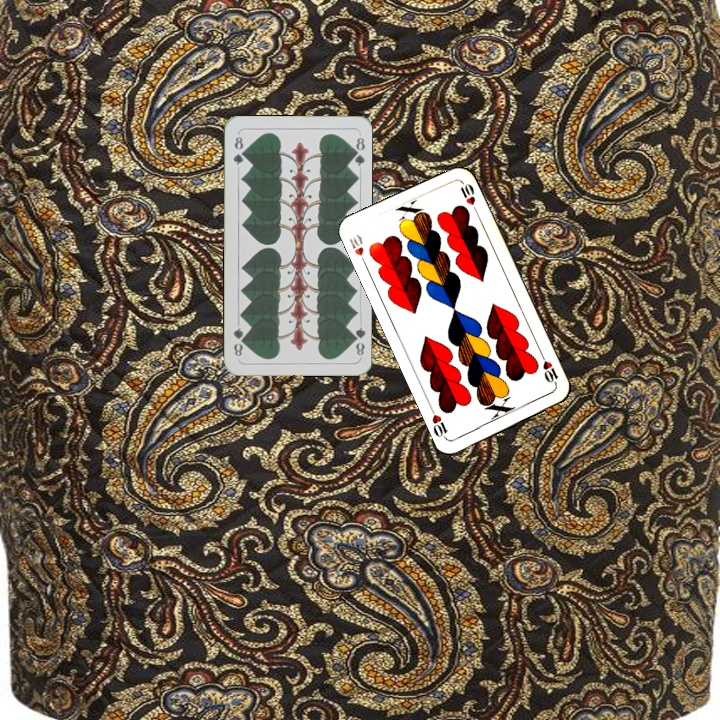G8: (347, 323, 367, 360), (229, 132, 247, 168)
H10: (345, 230, 369, 269), (537, 350, 560, 389)
